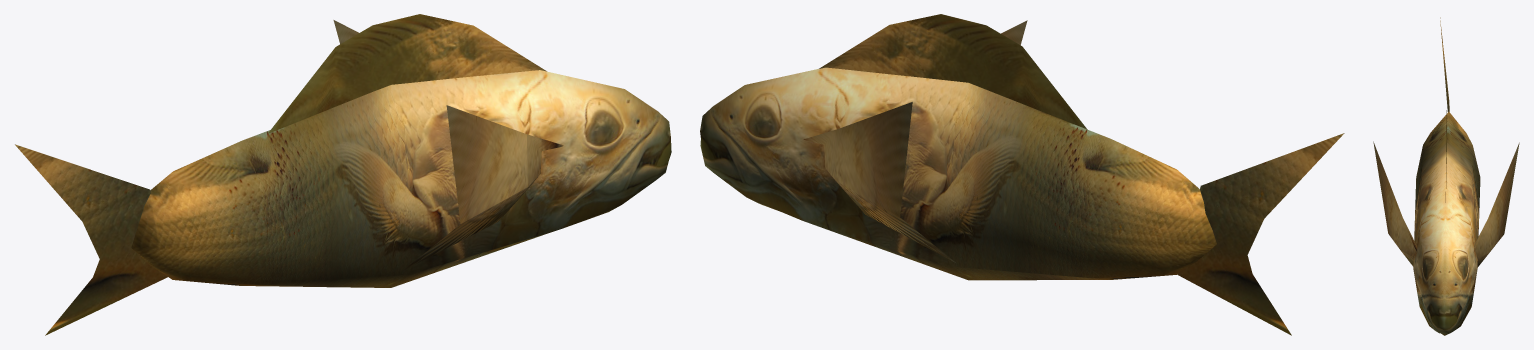
Rendered from SM_Fish00.fbx.
3 renders of one model, left to right at view 1: azimuth 30°, elevation 25°; view 2: azimuth 150°, elevation 25°; view 3: azimuth 270°, elevation 25°, orthographic. The views are drawn at different scales.
Parts seen in each view (by area): view 1: SM_Fish00; view 2: SM_Fish00; view 3: SM_Fish00.
Boxes of the visible parts, left/top/right/bottom form: SM_Fish00: left=15, top=14, right=671, bottom=335; SM_Fish00: left=700, top=14, right=1344, bottom=335; SM_Fish00: left=1373, top=17, right=1519, bottom=335.
Bounding box in the file's own units: 774 × 299 × 235.
